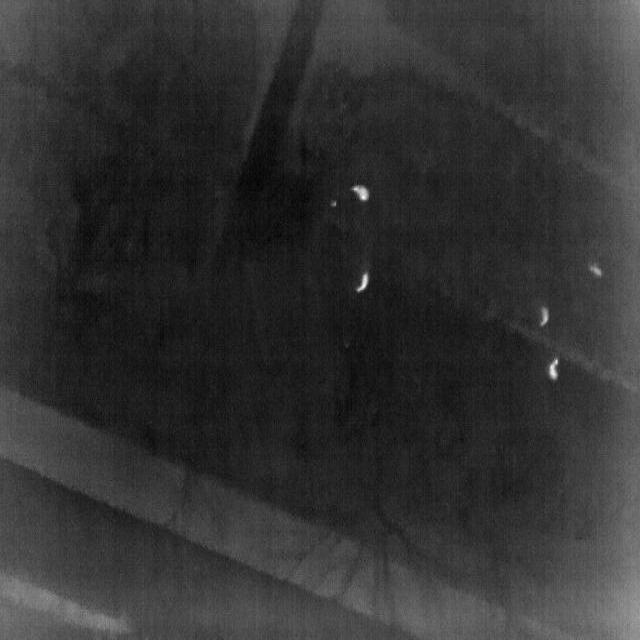deer: (350, 184, 371, 202), (548, 358, 560, 382), (588, 262, 604, 278), (357, 272, 369, 293), (539, 306, 550, 327)
